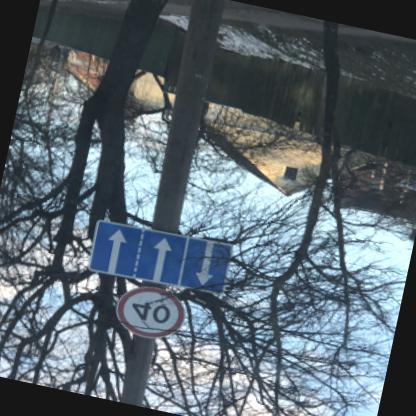speedlimit: (111, 280, 188, 344)
